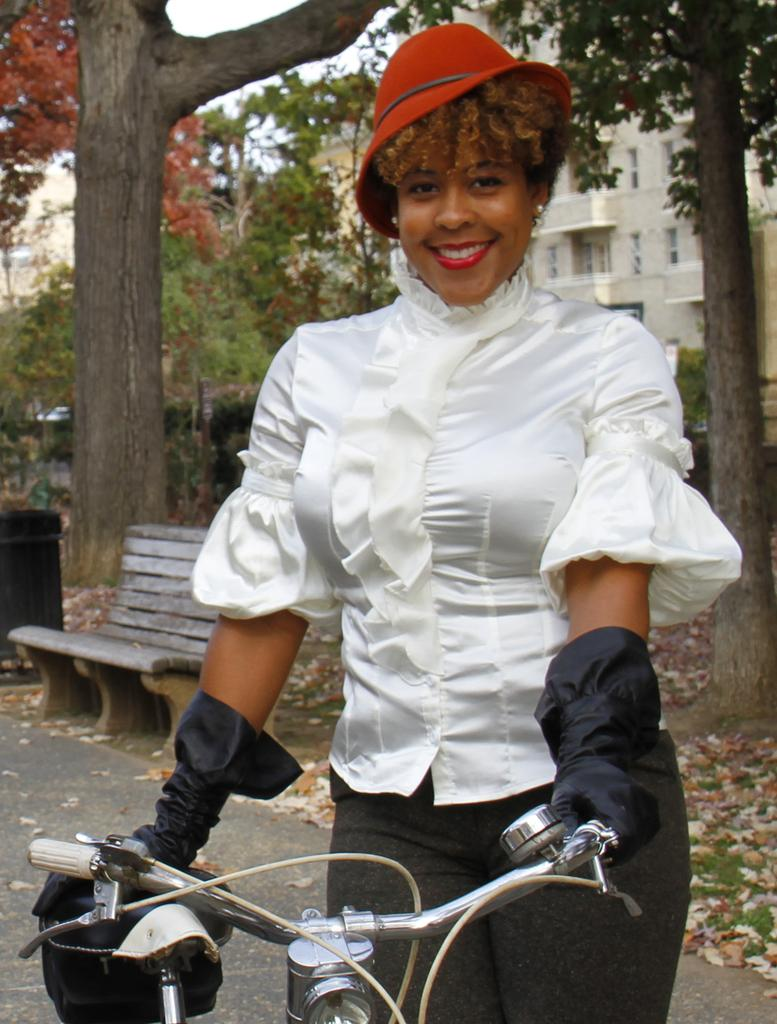Hat: (348, 18, 572, 242)
